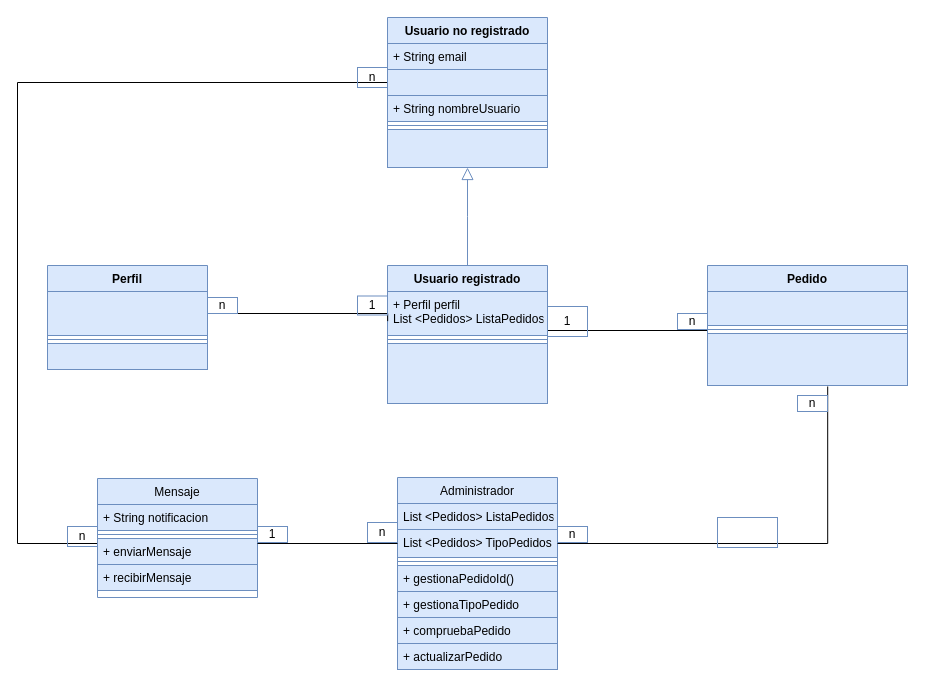
Image size: 925x690. Some labels were removed from this diagram. The shapes that lost their labels are listed below. From the top down, each one's centre as x and y in pixels, then its label:
the point at 467,82: + String contrasenia
the point at 467,148: + registrarse() + volverAtras()
the point at 127,313: + String nombreFull + String infoUsuario
the point at 807,308: List <Pedidos> TipoPedidos Date fechaEnvio
the point at 127,356: + actualizarPerfil
the point at 467,373: + iniciarSesion() + recuperarContrasenia() + consultarPedidoId()
the point at 807,359: + generarId() + consultarEstado() + enviarPedido()
the point at 747,532: gestiona
